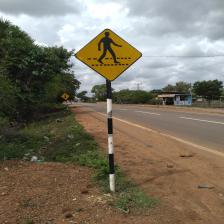yellowboard: (74, 28, 143, 82)
